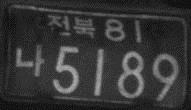1: (93, 46, 104, 98), (133, 18, 142, 44)
5: (52, 44, 79, 95)
8: (117, 48, 146, 99), (104, 17, 126, 43)
9: (152, 52, 179, 103)
나: (15, 43, 45, 77)
전북_O: (47, 13, 95, 40)
